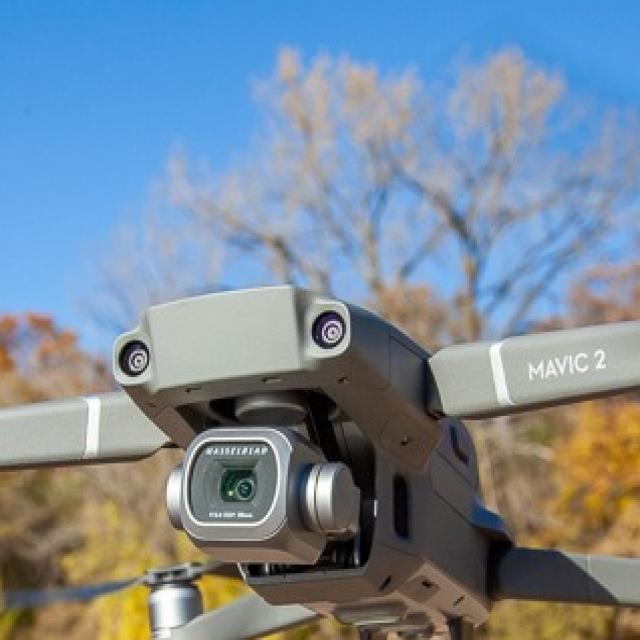drone: (0, 187, 640, 640)
